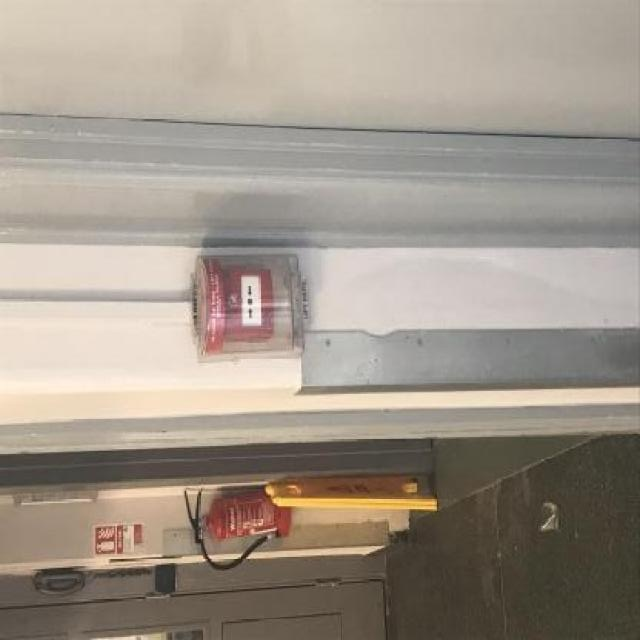fire extinguisher: (182, 484, 291, 571)
